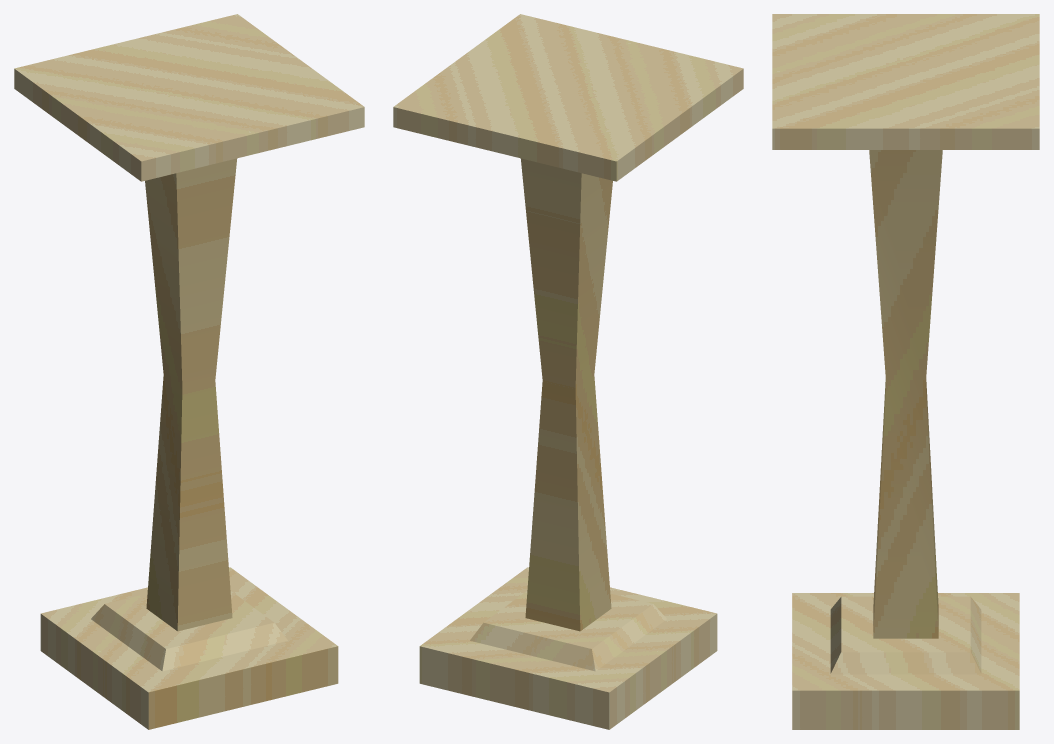
Rendered from 02de_Shogi_Board.glb.
3 renders of one model, left to right at view 1: azimuth 30°, elevation 25°; view 2: azimuth 150°, elevation 25°; view 3: azimuth 270°, elevation 25°, orthographic. The views are drawn at different scales.
Parts seen in each view (by area): view 1: part_0; view 2: part_0; view 3: part_0.
Boxes of the visible parts, x1,y1,x2,y2 form: part_0: (14, 14, 364, 729); part_0: (393, 14, 743, 729); part_0: (772, 14, 1039, 729).
Size of the model in its own units: 0.0885 by 0.2194 by 0.0872.
1 material, 1 textured.
